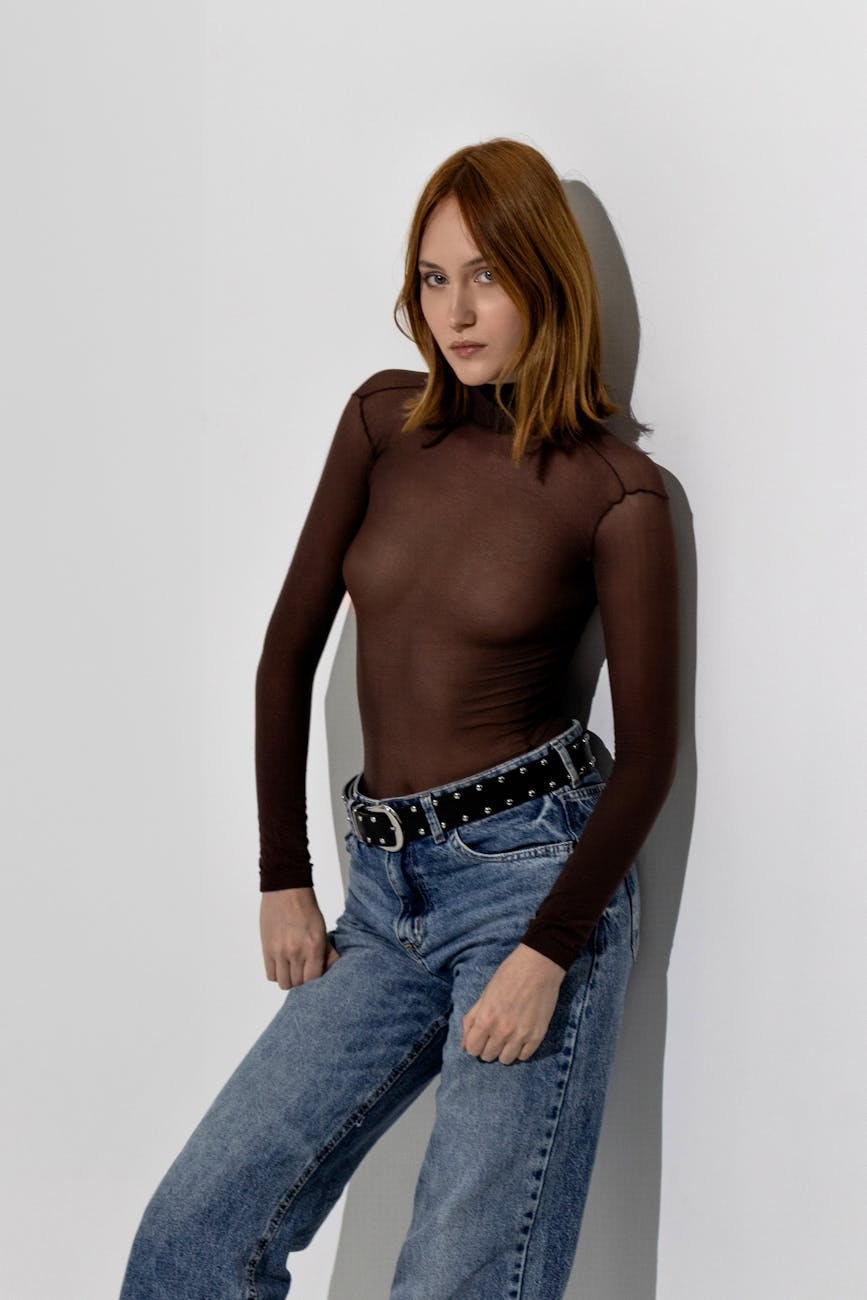transparent_top: (317, 406, 636, 748)
